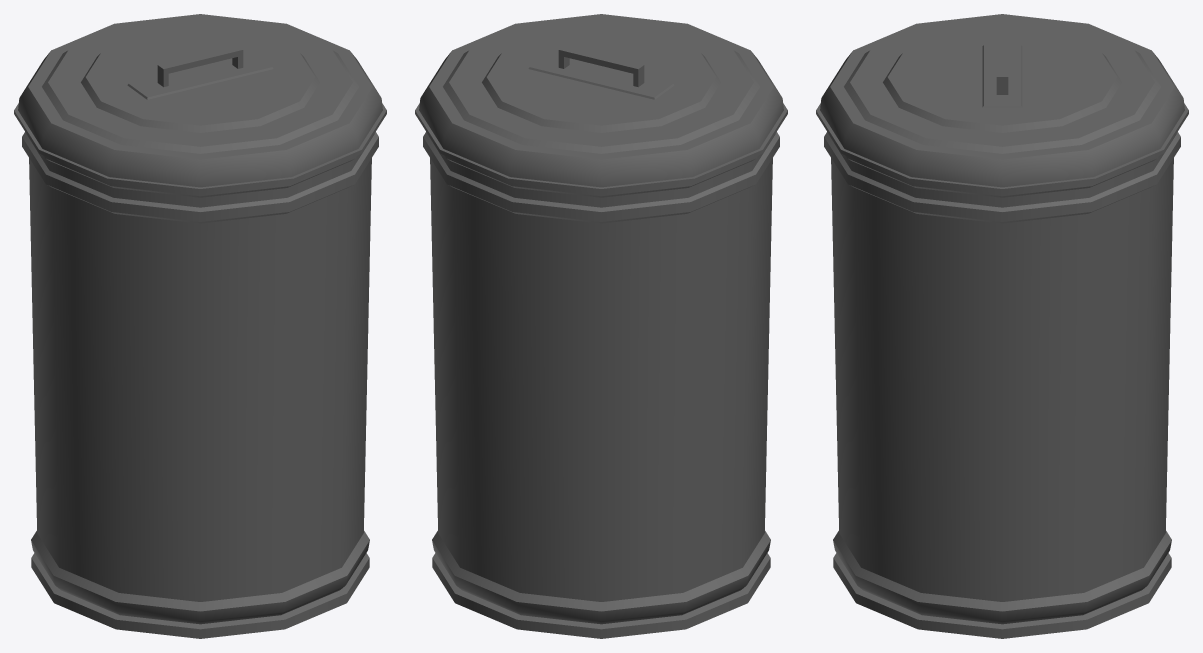
Rendered from Trashcan_Large.glb.
3 renders of one model, left to right at view 1: azimuth 30°, elevation 25°; view 2: azimuth 150°, elevation 25°; view 3: azimuth 270°, elevation 25°, orthographic.
Parts seen in each view (by area): view 1: Trashcan_Large; view 2: Trashcan_Large; view 3: Trashcan_Large.
Part boxes in pixels (<box>): Trashcan_Large: <box>14,14,386,638</box>; Trashcan_Large: <box>415,14,787,638</box>; Trashcan_Large: <box>816,14,1188,638</box>.
Bounding box in the file's own units: 0.5982 × 0.9028 × 0.5982.
Materials: 1 (1 with a texture image).
